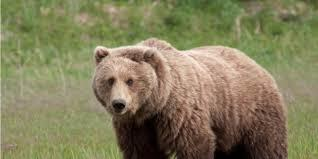bear: (90, 35, 289, 158)
